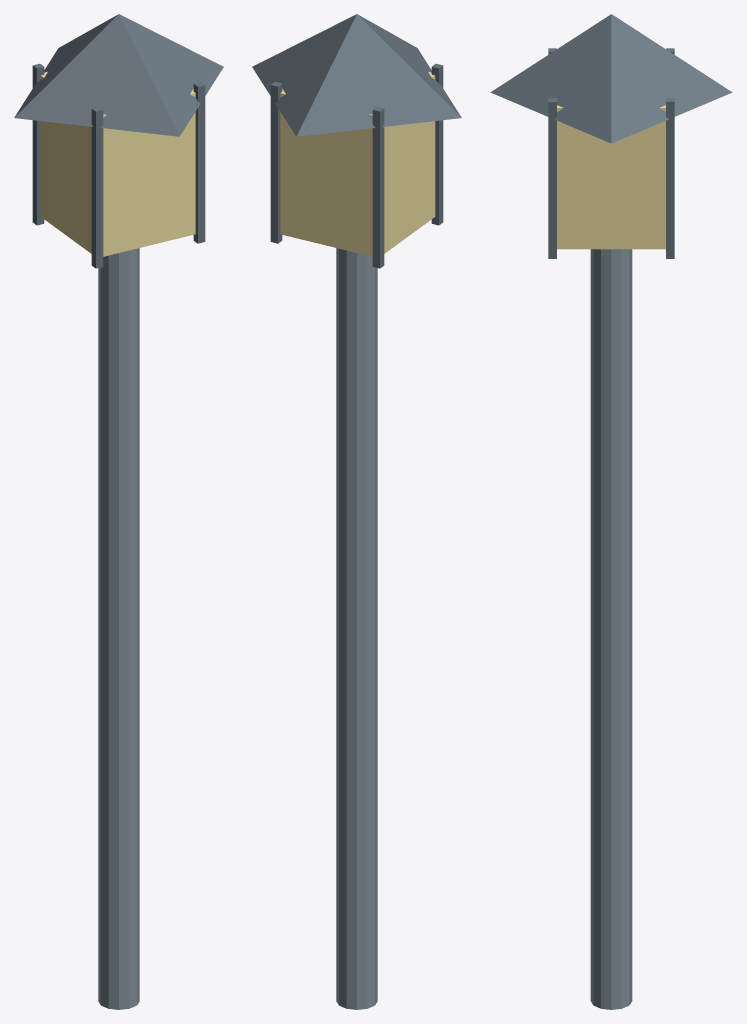
The model's file is lantern_lamp.glb.
3 views of the same model, side by side, from view 1: azimuth 30°, elevation 25°; view 2: azimuth 150°, elevation 25°; view 3: azimuth 270°, elevation 25° (orthographic).
Visible parts, largest first — view 1: lantern_lamp_000, lantern_lamp_001, lantern_lamp_002, lantern_lamp_003, lantern_lamp_005, lantern_lamp_004; view 2: lantern_lamp_000, lantern_lamp_001, lantern_lamp_002, lantern_lamp_004, lantern_lamp_006, lantern_lamp_003; view 3: lantern_lamp_000, lantern_lamp_002, lantern_lamp_001, lantern_lamp_005, lantern_lamp_006.
Part boxes in pixels (left/top/right/bottom): lantern_lamp_000: left=98, top=248, right=139, bottom=1009; lantern_lamp_001: left=40, top=71, right=195, bottom=256; lantern_lamp_002: left=14, top=14, right=223, bottom=136; lantern_lamp_003: left=91, top=106, right=103, bottom=268; lantern_lamp_005: left=193, top=82, right=205, bottom=243; lantern_lamp_004: left=32, top=63, right=44, bottom=225; lantern_lamp_000: left=336, top=248, right=377, bottom=1009; lantern_lamp_001: left=280, top=71, right=435, bottom=256; lantern_lamp_002: left=252, top=14, right=461, bottom=136; lantern_lamp_004: left=372, top=106, right=384, bottom=268; lantern_lamp_006: left=270, top=82, right=282, bottom=243; lantern_lamp_003: left=431, top=63, right=443, bottom=225; lantern_lamp_000: left=590, top=249, right=632, bottom=1009; lantern_lamp_002: left=490, top=14, right=732, bottom=143; lantern_lamp_001: left=557, top=105, right=665, bottom=249; lantern_lamp_005: left=548, top=98, right=556, bottom=258; lantern_lamp_006: left=666, top=98, right=674, bottom=258.
Size of the model in its own units: 0.7 by 3.14 by 0.7.
